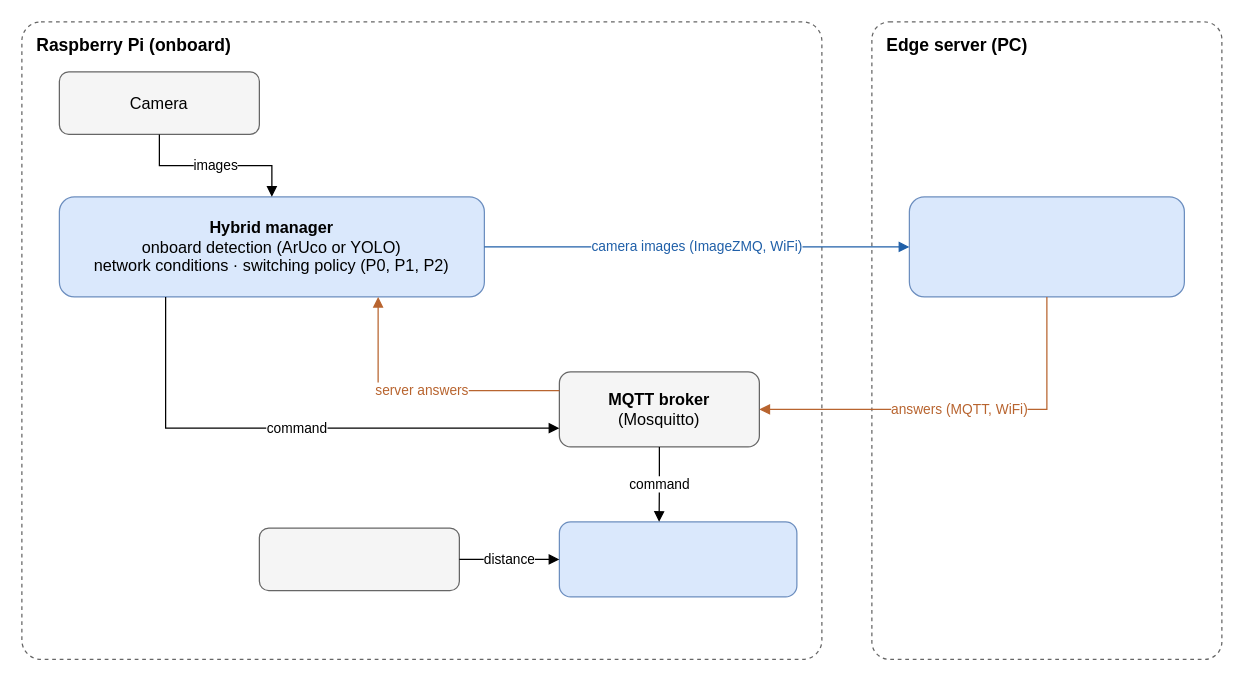
This 1244x681 diagram has some shape labels left out. The box of each missing label's shape, as (x1, y1, x2, y2) in pixels:
Edge brain detection method (ArUco or YOLO): (908, 196, 1184, 297)
Motor controller PWM, safety stop, watchdog: (558, 521, 797, 597)
Ultrasonic sensor: (258, 527, 459, 591)
